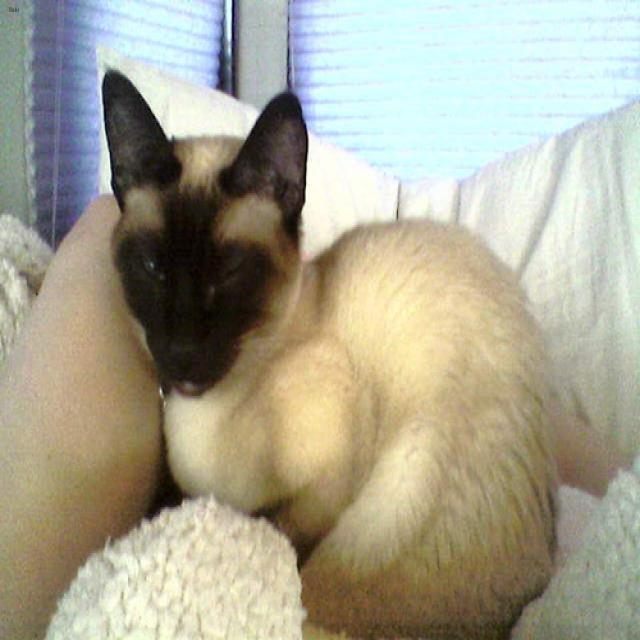Siamese: (100, 70, 307, 394)
